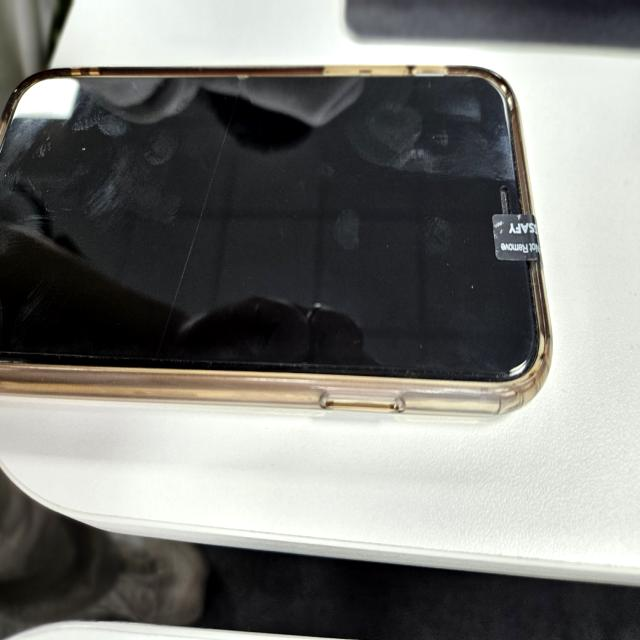phone: (0, 64, 554, 432)
sticker: (490, 208, 542, 263)
